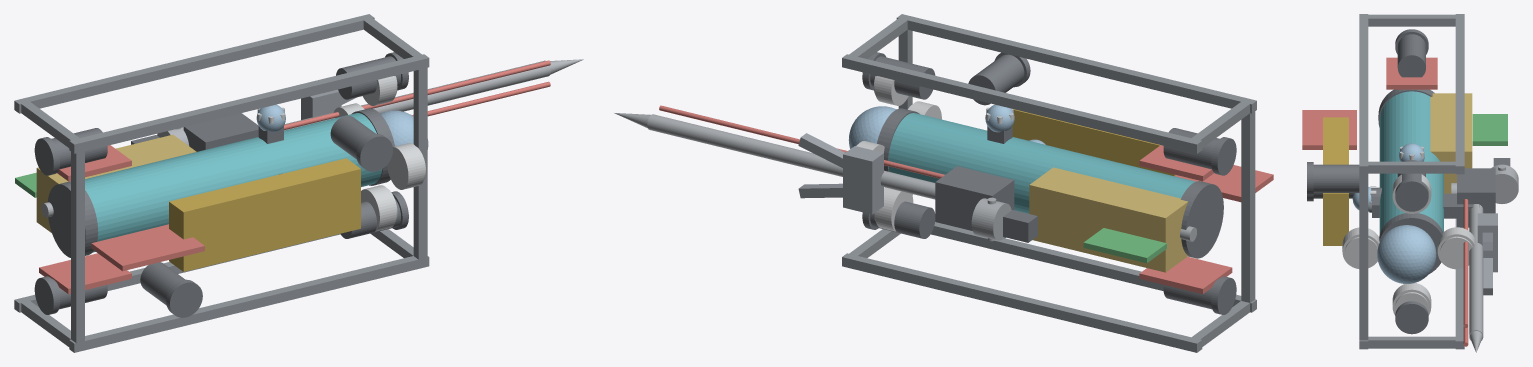
File: submarino.glb
The picture shows the model from 3 angles, left to right: view 1: azimuth 30°, elevation 25°; view 2: azimuth 150°, elevation 25°; view 3: azimuth 270°, elevation 25°; orthographic projection. The views are drawn at different scales.
Parts seen in each view (by area): view 1: geometry_0; view 2: geometry_0; view 3: geometry_0.
Part boxes in pixels (<box>): geometry_0: <box>14,14,583,352</box>; geometry_0: <box>614,14,1273,352</box>; geometry_0: <box>1302,14,1518,352</box>.
Bounding box in the file's own units: 910 × 314 × 336.
